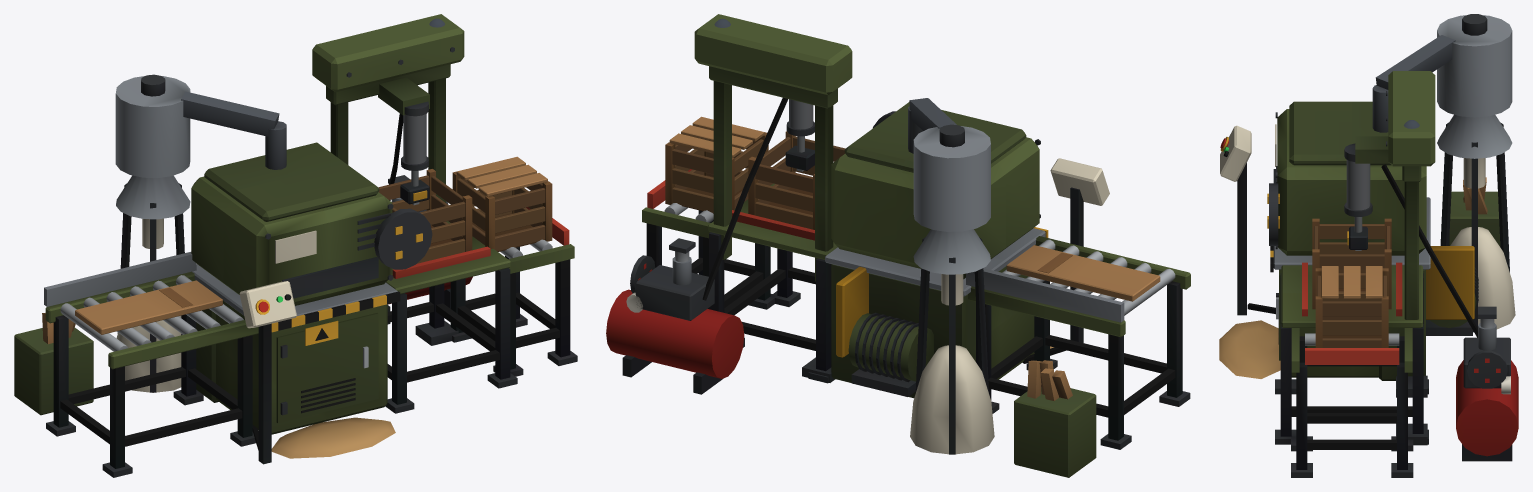
The model's file is saw_bench.glb.
The picture shows the model from 3 angles, left to right: view 1: azimuth 30°, elevation 25°; view 2: azimuth 150°, elevation 25°; view 3: azimuth 270°, elevation 25°; orthographic projection. The views are drawn at different scales.
Visible parts, largest first — view 1: saw_bench_body, crate_out, plank, crate_wip, pulley, roller_0, press_head; view 2: saw_bench_body, crate_out, crate_wip, plank, press_head; view 3: saw_bench_body, crate_out, crate_wip, comp_wheel, pulley, press_head, comp_piston.
Part boxes in pixels (box(x1,y1,x2,y2)): saw_bench_body: box(14, 14, 577, 477); crate_out: box(452, 156, 552, 251); plank: box(75, 280, 222, 334); crate_wip: box(378, 169, 472, 263); pulley: box(374, 208, 432, 269); roller_0: box(60, 303, 128, 351); press_head: box(400, 170, 429, 205); saw_bench_body: box(606, 14, 1190, 477); crate_out: box(665, 116, 768, 213); crate_wip: box(748, 131, 845, 229); plank: box(1006, 245, 1160, 301); press_head: box(785, 136, 814, 171); saw_bench_body: box(1219, 14, 1518, 477); crate_out: box(1315, 266, 1388, 347); crate_wip: box(1312, 218, 1391, 309); comp_wheel: box(1467, 350, 1507, 388); pulley: box(1267, 183, 1279, 245); press_head: box(1347, 217, 1367, 250); comp_piston: box(1478, 306, 1496, 328).
Size of the model in its own units: 3.45 by 2.24 by 1.91.
